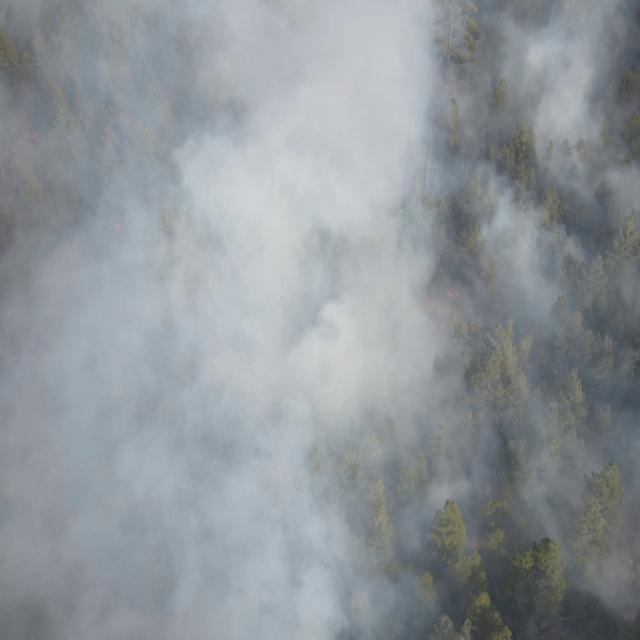fire: (444, 286, 464, 302), (110, 219, 128, 235), (29, 128, 41, 144), (470, 538, 482, 552)
smoke: (0, 0, 640, 640)
